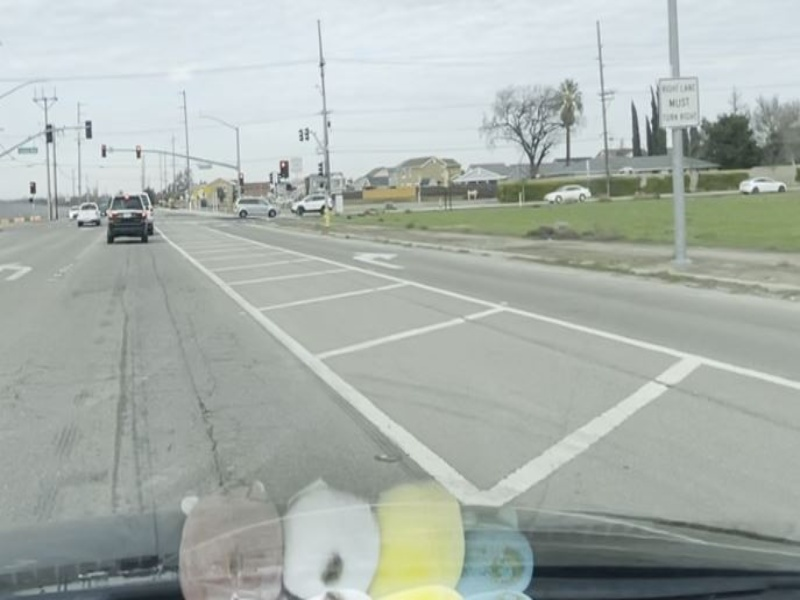merge sign: (654, 76, 703, 131)
